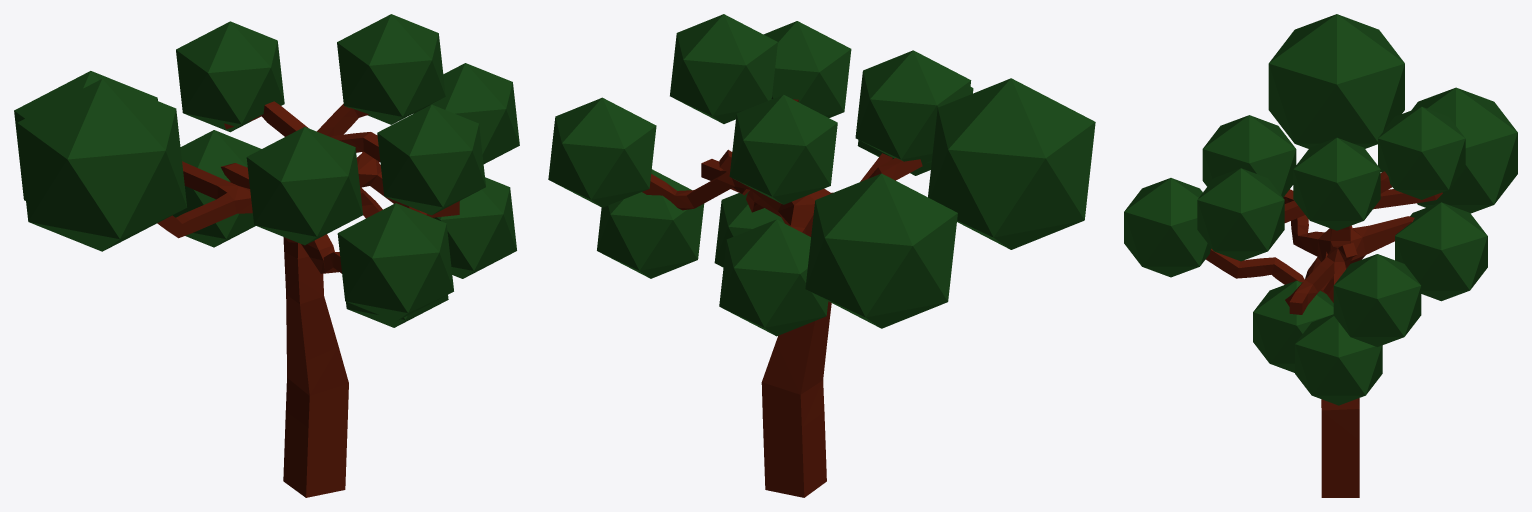
File: tree1.obj
3 views of the same model, side by side, from view 1: azimuth 30°, elevation 25°; view 2: azimuth 150°, elevation 25°; view 3: azimuth 270°, elevation 25° (orthographic). The views are drawn at different scales.
Visible parts, largest first — view 1: Cube; view 2: Cube; view 3: Cube.
Boxes of the visible parts, x1=… form: Cube: x1=14, y1=14, x2=519, y2=497; Cube: x1=548, y1=14, x2=1095, y2=497; Cube: x1=1124, y1=14, x2=1517, y2=497.
Bounding box in the file's own units: 15.64 × 13.56 × 12.47.
